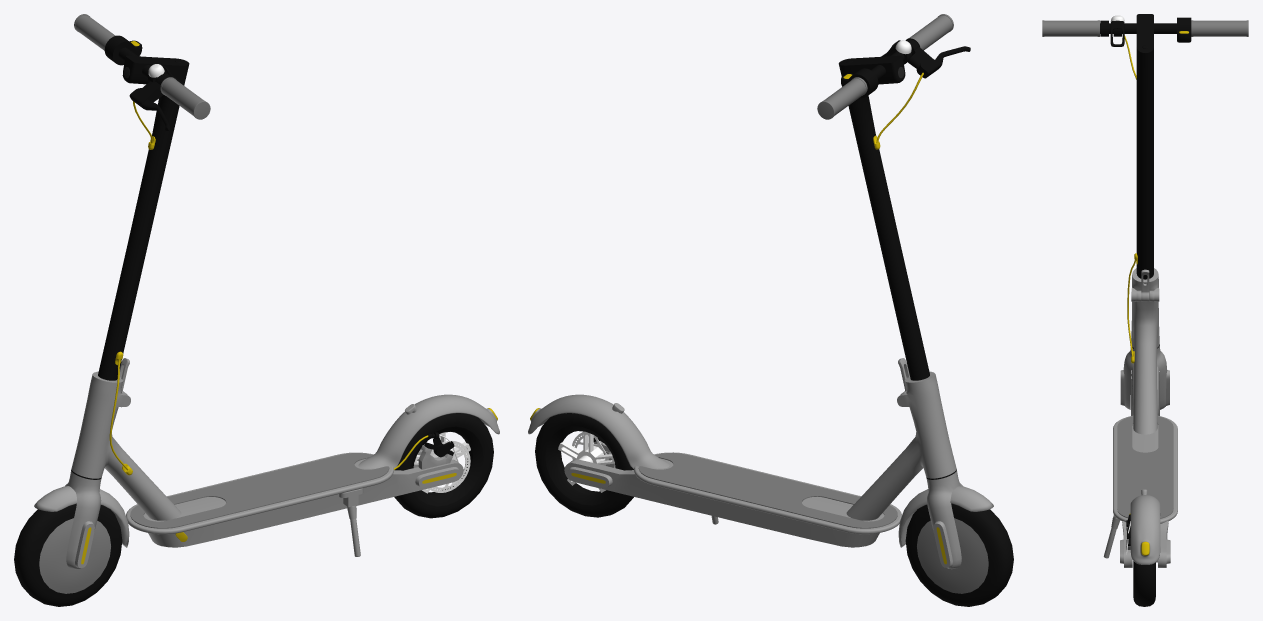
File: scooter.glb
The picture shows the model from 3 angles, left to right: view 1: azimuth 30°, elevation 25°; view 2: azimuth 150°, elevation 25°; view 3: azimuth 270°, elevation 25°; orthographic projection. The views are drawn at different scales.
Parts seen in each view (by area): view 1: Scooter_2objcleanermaterialmergergles; view 2: Scooter_2objcleanermaterialmergergles; view 3: Scooter_2objcleanermaterialmergergles.
Boxes of the visible parts, box(x1,y1,x2,y2) form: Scooter_2objcleanermaterialmergergles: box(14, 14, 499, 606); Scooter_2objcleanermaterialmergergles: box(528, 14, 1013, 606); Scooter_2objcleanermaterialmergergles: box(1042, 14, 1248, 606).
Size of the model in its own units: 1.27 by 1.35 by 0.5477.
